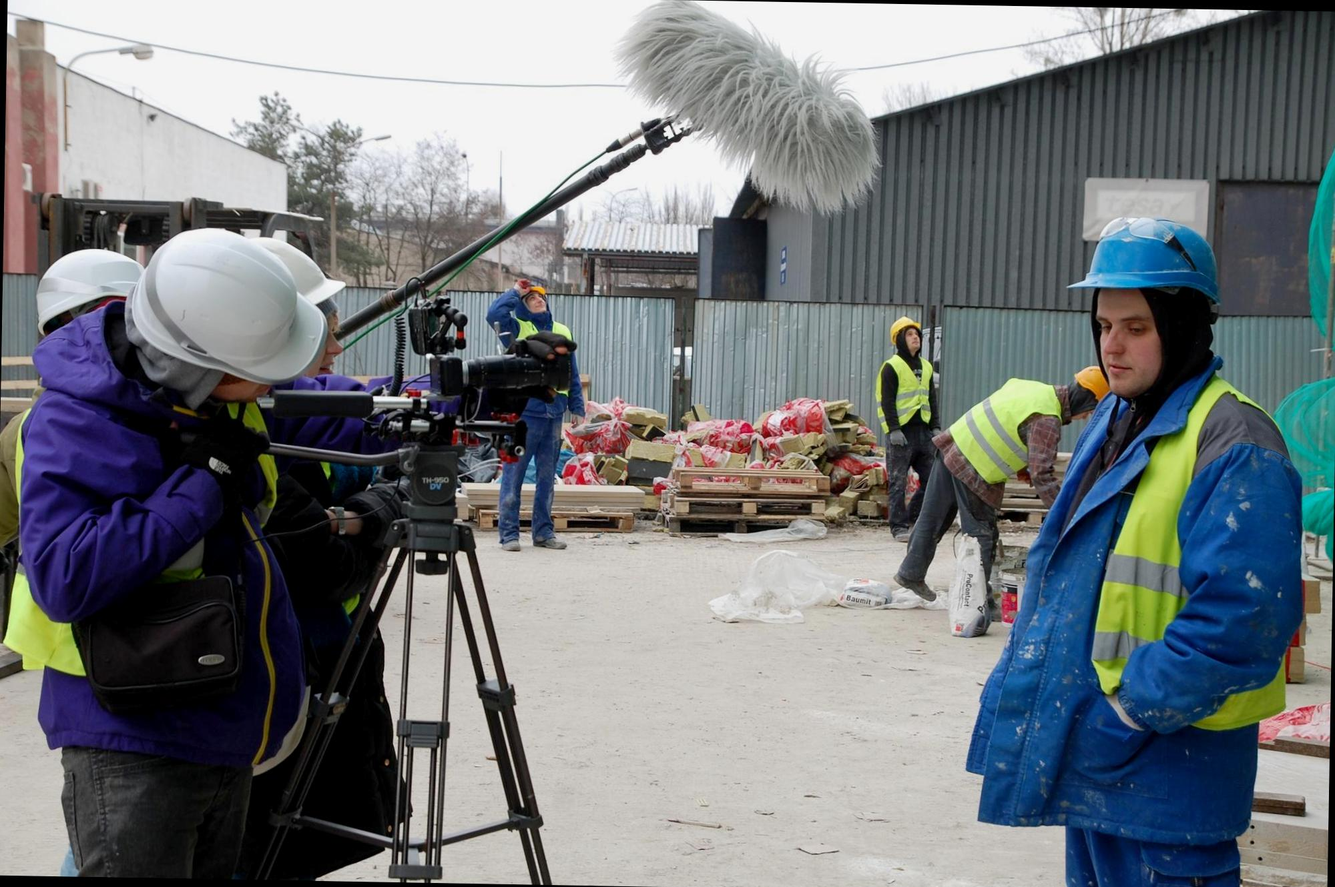helmet: (122, 226, 331, 393), (1069, 216, 1220, 309)
no_vest: (107, 419, 326, 692)
person: (7, 231, 373, 882), (965, 214, 1305, 887), (868, 312, 945, 514)
